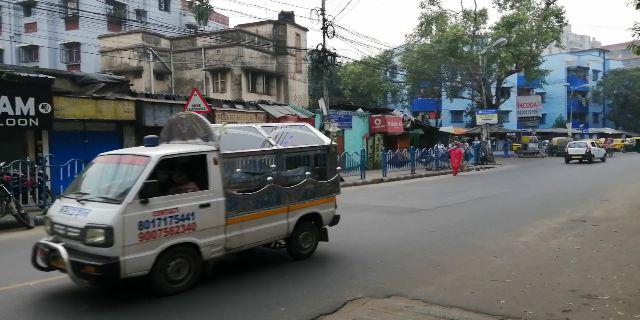Car: (566, 140, 610, 163)
Van: (31, 118, 344, 292)
